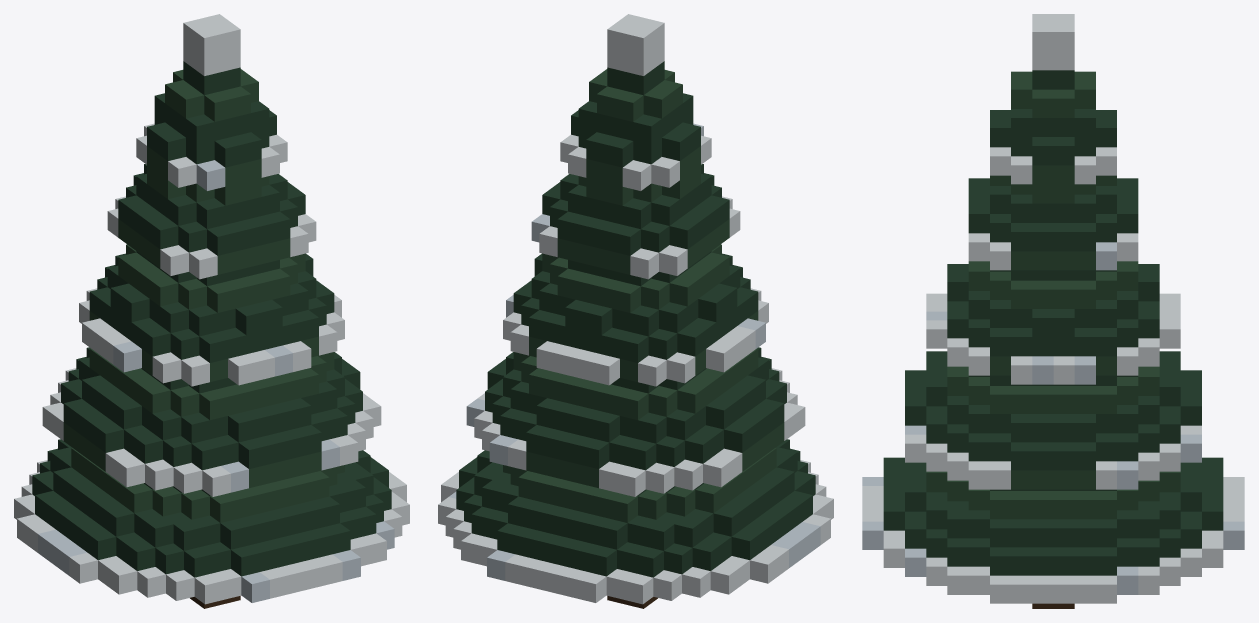
The model's file is prop_pine.glb.
The picture shows the model from 3 angles, left to right: view 1: azimuth 30°, elevation 25°; view 2: azimuth 150°, elevation 25°; view 3: azimuth 270°, elevation 25°; orthographic projection.
Visible parts, largest first — view 1: prop_pine; view 2: prop_pine; view 3: prop_pine.
Part boxes in pixels (x1,y1,x2,y2): prop_pine: (14,14,409,608); prop_pine: (438,14,833,608); prop_pine: (862,14,1244,608).
Size of the model in its own units: 1.8 by 3 by 1.8.
